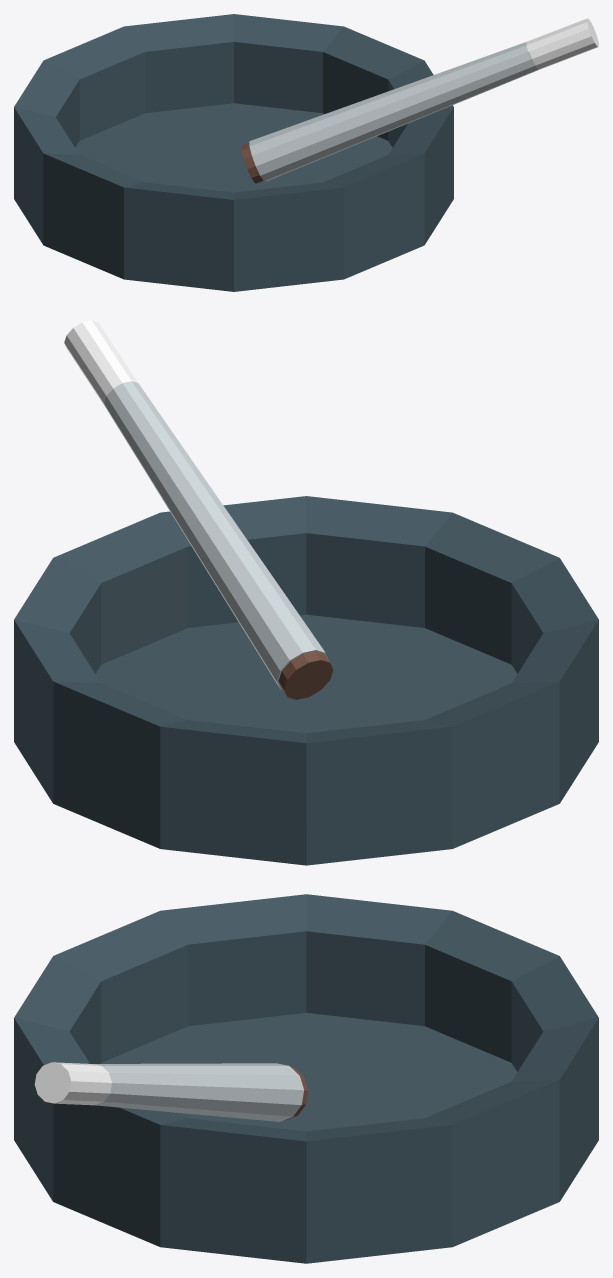
3 views of the same model, one above another, from view 1: azimuth 30°, elevation 25°; view 2: azimuth 150°, elevation 25°; view 3: azimuth 270°, elevation 25° (orthographic). The views are drawn at different scales.
Visible parts, largest first — view 1: mesh_345695371, group_1216512367; view 2: mesh_345695371, group_1216512367; view 3: mesh_345695371, group_1216512367.
Boxes of the visible parts, box(x1,y1,x2,y2) form: mesh_345695371: box(14, 14, 453, 291); group_1216512367: box(241, 18, 598, 183); mesh_345695371: box(14, 496, 598, 865); group_1216512367: box(64, 320, 333, 699); mesh_345695371: box(14, 894, 598, 1263); group_1216512367: box(34, 1062, 308, 1121).
Size of the model in its own units: 47.32 by 18.04 by 39.
